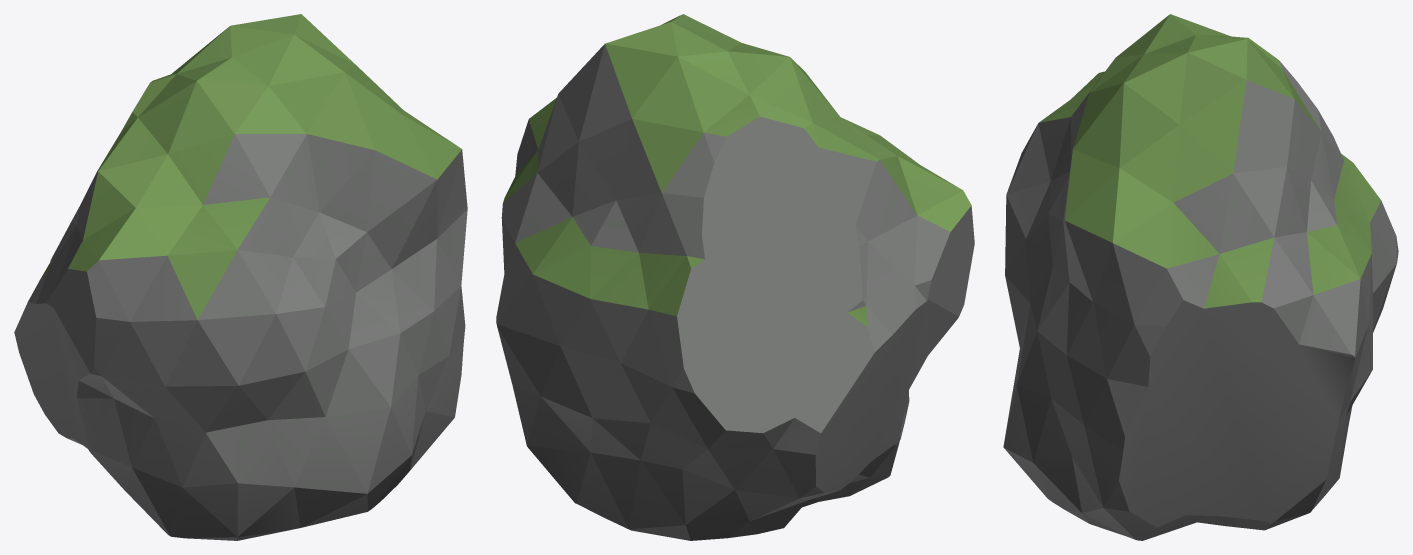
Rendered from obj_roca_grande_2.glb.
3 views of the same model, side by side, from view 1: azimuth 30°, elevation 25°; view 2: azimuth 150°, elevation 25°; view 3: azimuth 270°, elevation 25° (orthographic). The views are drawn at different scales.
Parts seen in each view (by area): view 1: propforge-libre-roca_grande; view 2: propforge-libre-roca_grande; view 3: propforge-libre-roca_grande.
Part boxes in pixels (x1,y1,x2,y2): propforge-libre-roca_grande: (14, 14, 467, 540); propforge-libre-roca_grande: (496, 14, 974, 540); propforge-libre-roca_grande: (1003, 14, 1398, 540).
Size of the model in its own units: 1.3 by 1.33 by 1.08.
